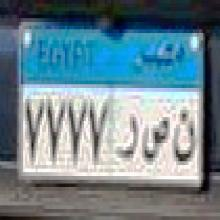7: (88, 99, 112, 165), (25, 97, 45, 164), (68, 100, 87, 166), (47, 98, 66, 159)
noon: (171, 107, 200, 165)
raa: (120, 114, 136, 158)
saad: (142, 112, 169, 166)
